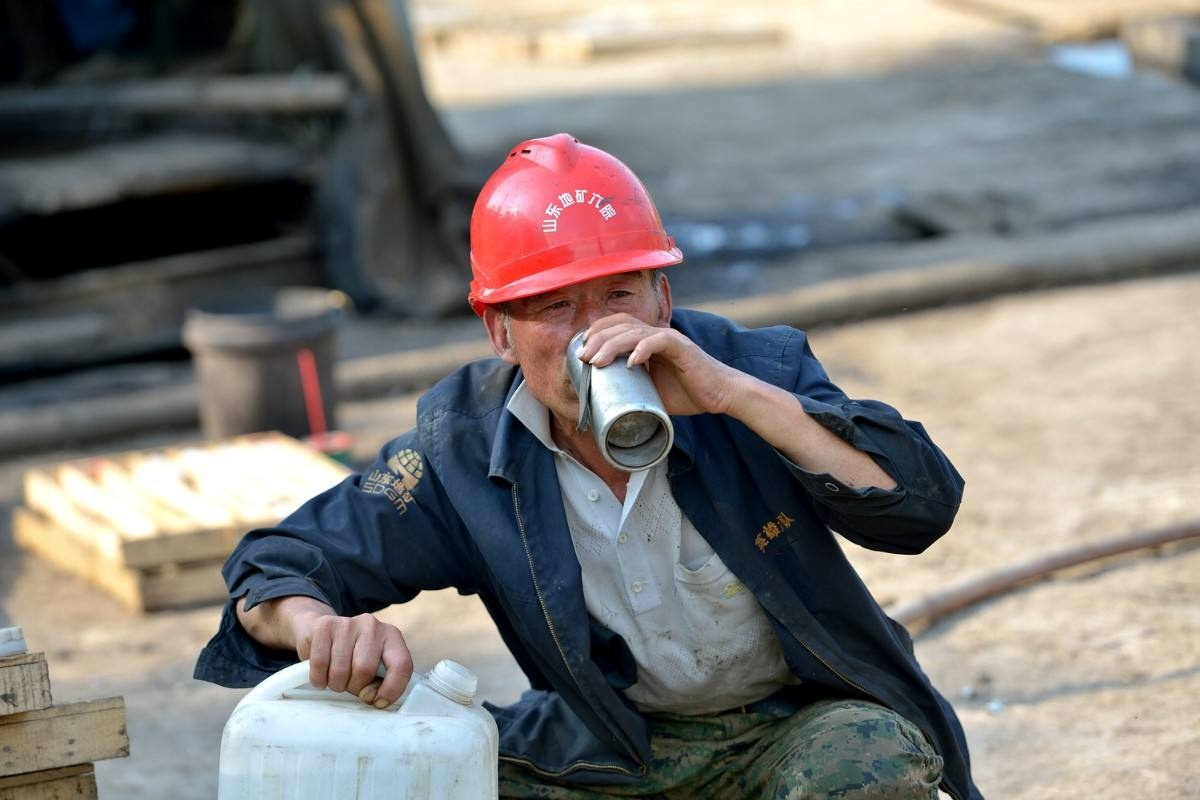red: (462, 137, 685, 428)
